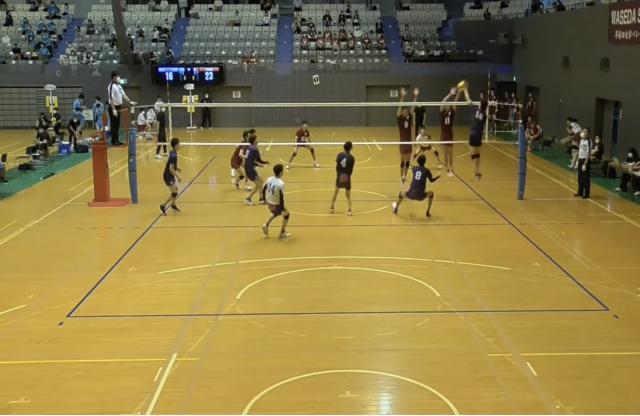spike: (453, 79, 492, 187)
